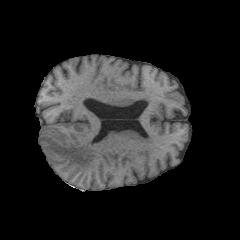glioma: (40, 129, 95, 172)
